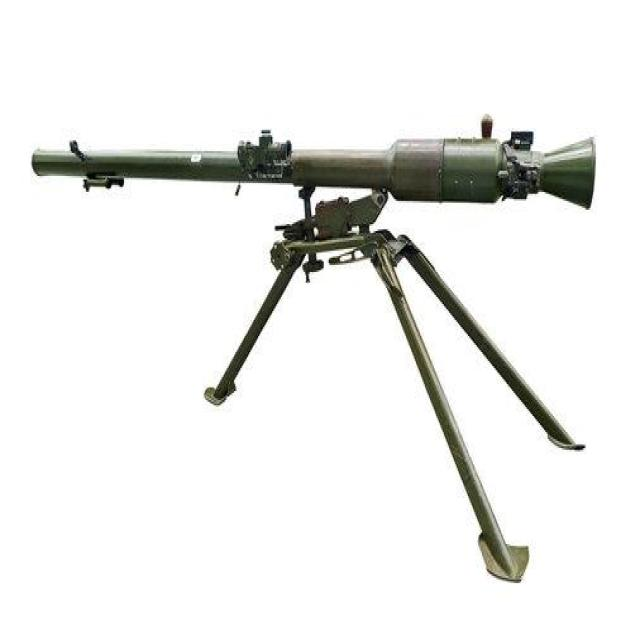bazooka: (21, 103, 609, 589)
